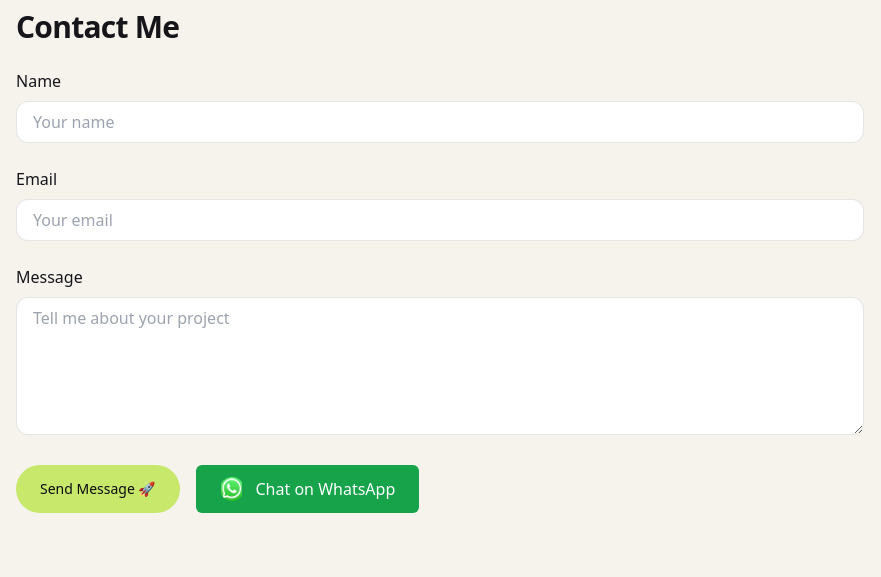
Test: ContactPage form › allows user to fill and submit the contact form
The width and height of the screenshot is (881, 577).
Type "Vijay" into the field with placeholder "Your name".
click(440, 122); type("Vijay")  # box x1=16 y1=101 x2=864 y2=143
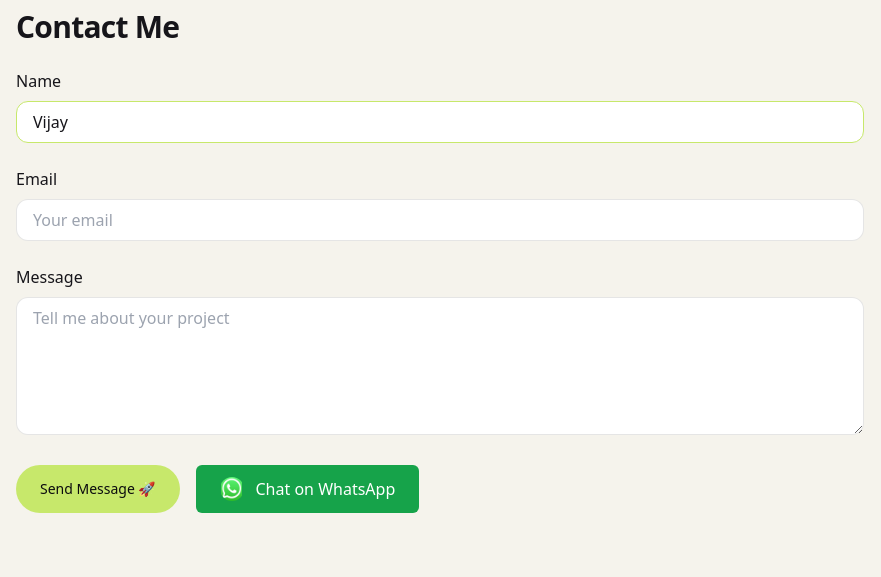
Type "vijay@test.com" into the field with placeholder "Your email".
click(440, 220); type("vijay@test.com")  # box x1=16 y1=199 x2=864 y2=241
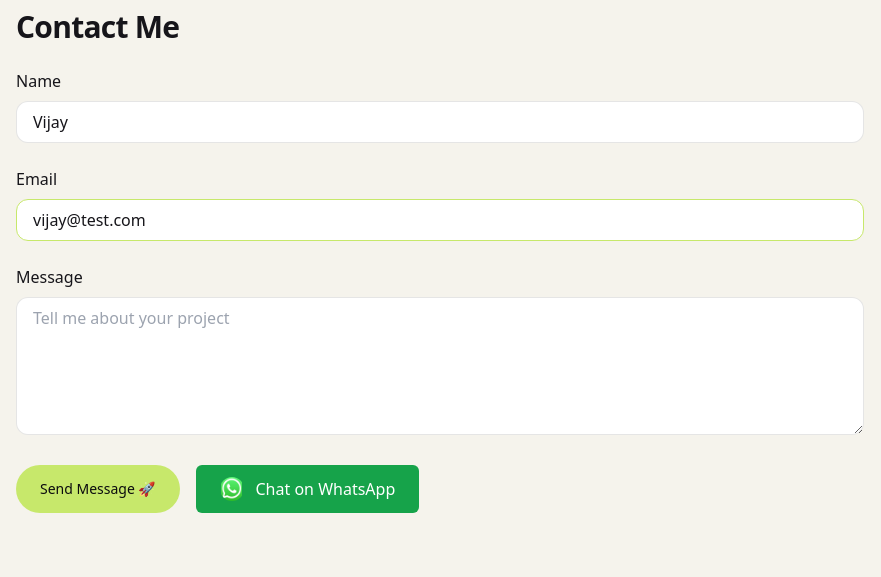
Type "Interested in working together" into the text box with placeholder "Tell me about your project".
click(440, 366); type("Interested in working together")  # box x1=16 y1=297 x2=864 y2=435
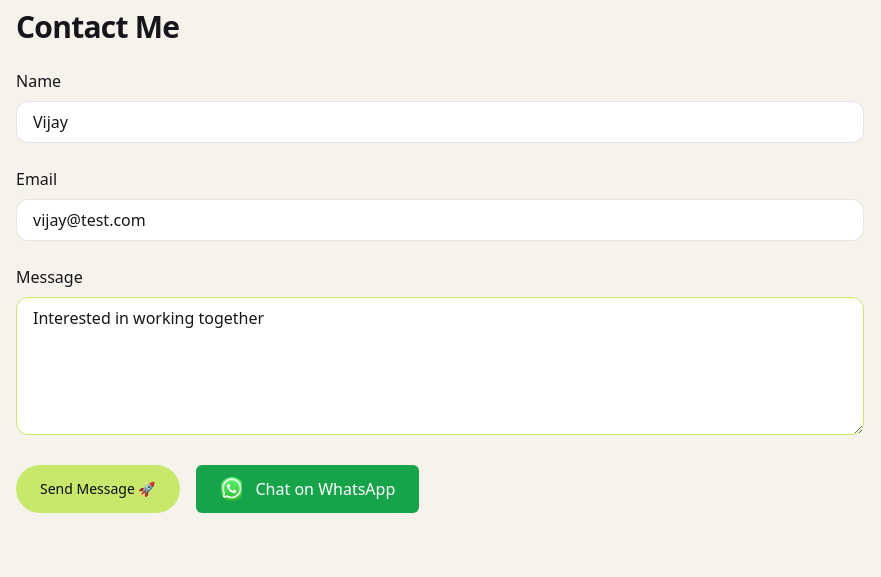
Click the button "Send Message 🚀".
click(98, 489)  # box x1=16 y1=465 x2=180 y2=513
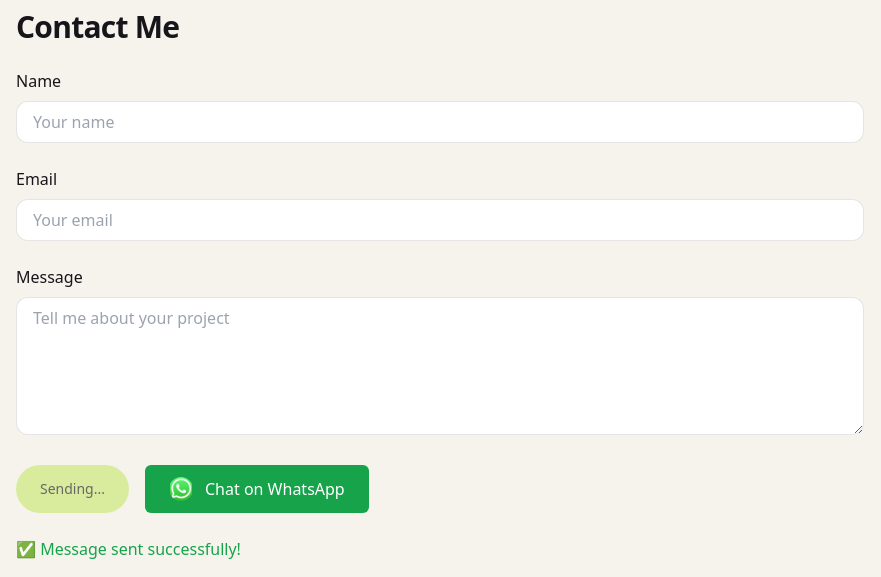
Expected: the text "✅ Message sent successfully!" is shown, x1=16 y1=538 x2=241 y2=560
